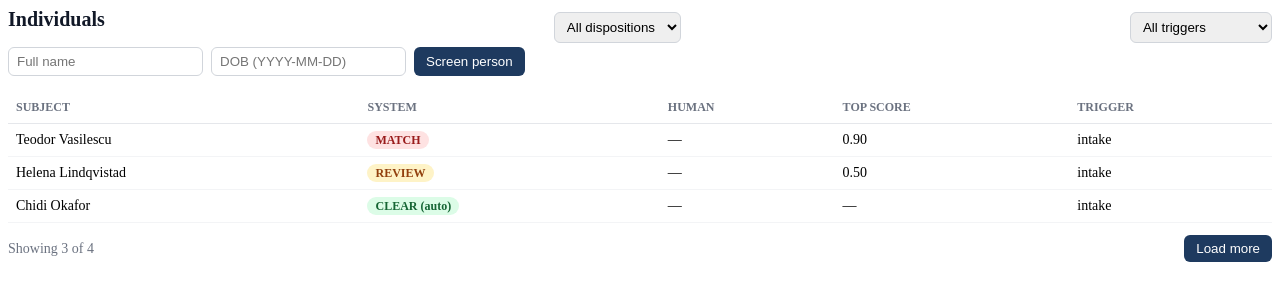
Test: IndividualsQueue › pages through a long queue with Load more
This screenshot has width=1280, height=300.
Expected: the number of rows with test id "screening-row" is 3, [8, 124, 1272, 156]; [8, 156, 1272, 190]; [8, 190, 1272, 222]
Expected: the text with test id "queue-count" reads "Showing 3 of 4", [8, 240, 94, 256]
Click the button "Load more" at (1228, 248), box [1184, 235, 1272, 262]
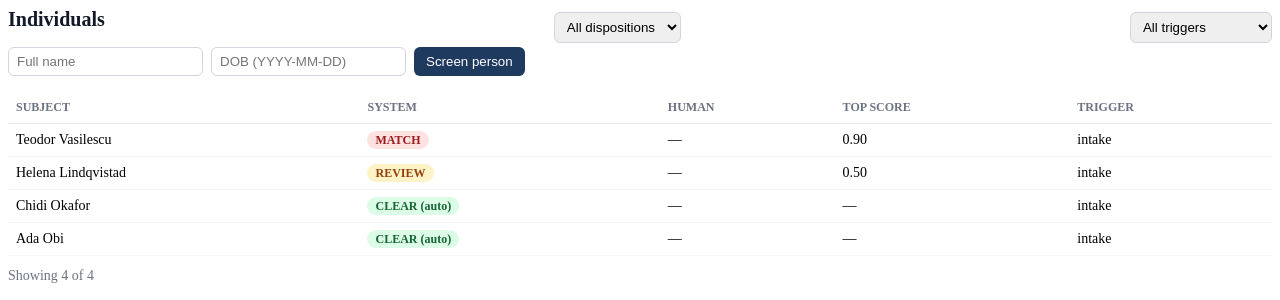
Result: the number of rows with test id "screening-row" is 4 at [8, 124, 1272, 156]; [8, 156, 1272, 190]; [8, 190, 1272, 222]; [8, 222, 1272, 256]
Result: the button "Load more" is gone
